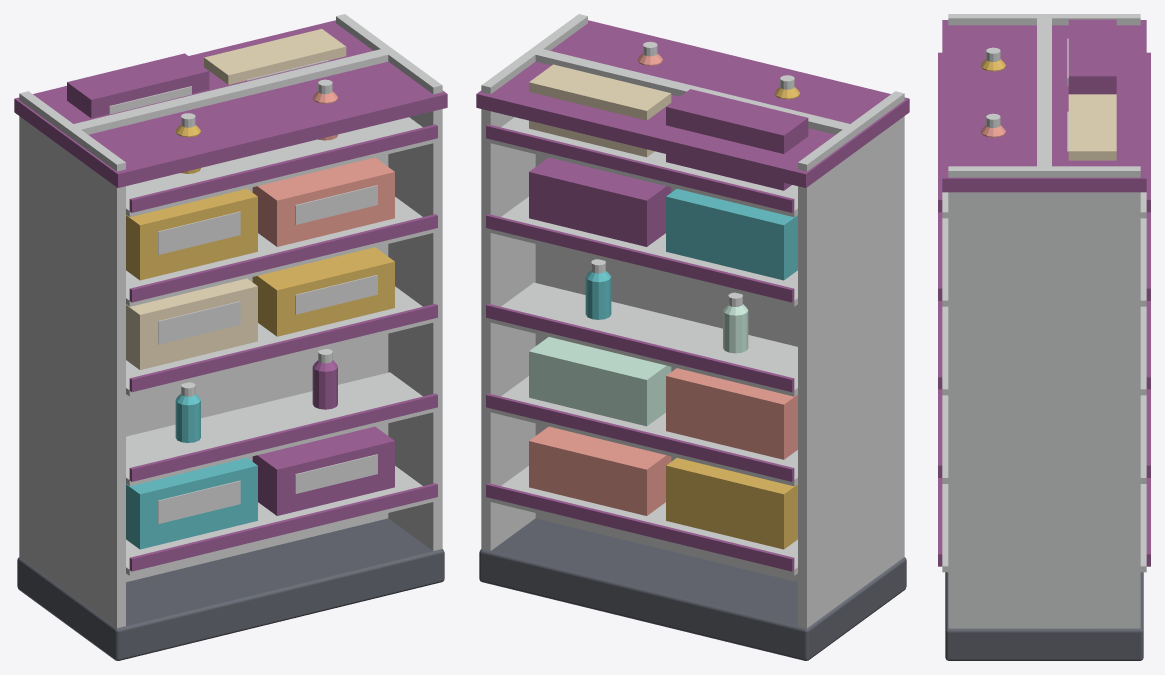
Rendered from pharmacy-and-high-street-chemist-gondola-shelving-run--3feae9a7__37506.glb.
3 renders of one model, left to right at view 1: azimuth 30°, elevation 25°; view 2: azimuth 150°, elevation 25°; view 3: azimuth 270°, elevation 25°, orthographic.
Parts seen in each view (by area): view 1: gondola-shelving-run-picked; view 2: gondola-shelving-run-picked; view 3: gondola-shelving-run-picked.
Boxes of the visible parts, x1,y1,x2,y2 form: gondola-shelving-run-picked: (14, 14, 447, 660); gondola-shelving-run-picked: (476, 14, 909, 660); gondola-shelving-run-picked: (938, 14, 1150, 660).
Size of the model in its own units: 1.25 by 1.84 by 0.708.
